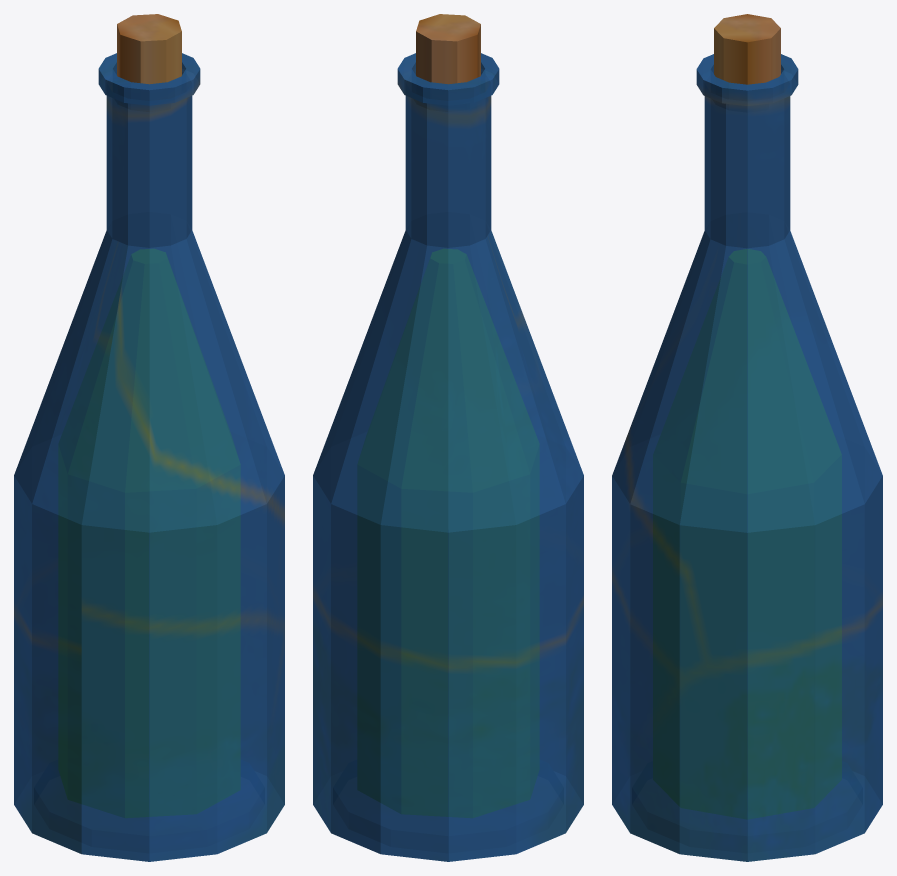
Rendered from bottle.glb.
3 views of the same model, side by side, from view 1: azimuth 30°, elevation 25°; view 2: azimuth 150°, elevation 25°; view 3: azimuth 270°, elevation 25° (orthographic).
Visible parts, largest first — view 1: butelka, wnetrze, korek; view 2: butelka, wnetrze, korek; view 3: butelka, wnetrze, korek.
Part boxes in pixels (bbox=[...]): butelka: bbox=[14, 53, 284, 861]; wnetrze: bbox=[59, 249, 239, 817]; korek: bbox=[117, 14, 181, 84]; butelka: bbox=[313, 53, 583, 861]; wnetrze: bbox=[358, 249, 538, 817]; korek: bbox=[416, 14, 480, 84]; butelka: bbox=[612, 54, 882, 861]; wnetrze: bbox=[653, 249, 841, 818]; korek: bbox=[714, 14, 780, 84].
Size of the model in its own units: 0.8865 by 2.8 by 0.8865.
Materials: 3 (2 with a texture image).
